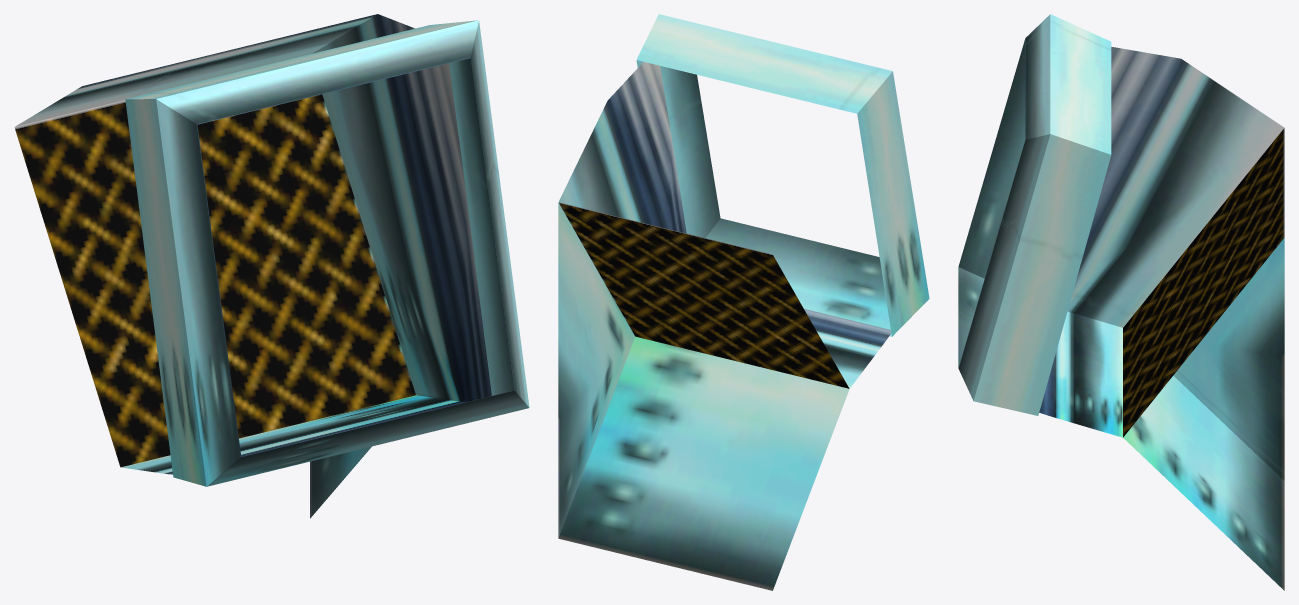
File: Belüftungsanlage_Kasten [Hellblau]_2581.glb
3 renders of one model, left to right at view 1: azimuth 30°, elevation 25°; view 2: azimuth 150°, elevation 25°; view 3: azimuth 270°, elevation 25°, orthographic. The views are drawn at different scales.
Visible parts, largest first — view 1: pPlaneShape2, pTorusShape1, pCylinderShape1; view 2: pCylinderShape1, pTorusShape1, pPlaneShape2; view 3: pCylinderShape1, pTorusShape1, pPlaneShape2.
Boxes of the visible parts, left/top/right/bottom form: pPlaneShape2: left=14, top=94, right=415, bottom=467; pTorusShape1: left=125, top=20, right=529, bottom=486; pCylinderShape1: left=15, top=14, right=491, bottom=518; pCylinderShape1: left=558, top=62, right=891, bottom=590; pTorusShape1: left=636, top=14, right=929, bottom=336; pPlaneShape2: left=558, top=202, right=849, bottom=388; pCylinderShape1: left=1039, top=46, right=1284, bottom=590; pTorusShape1: left=958, top=14, right=1111, bottom=415; pPlaneShape2: left=1123, top=128, right=1284, bottom=437.
Size of the model in its own units: 0.1937 by 0.348 by 0.2223.
3 materials, 3 textured.
